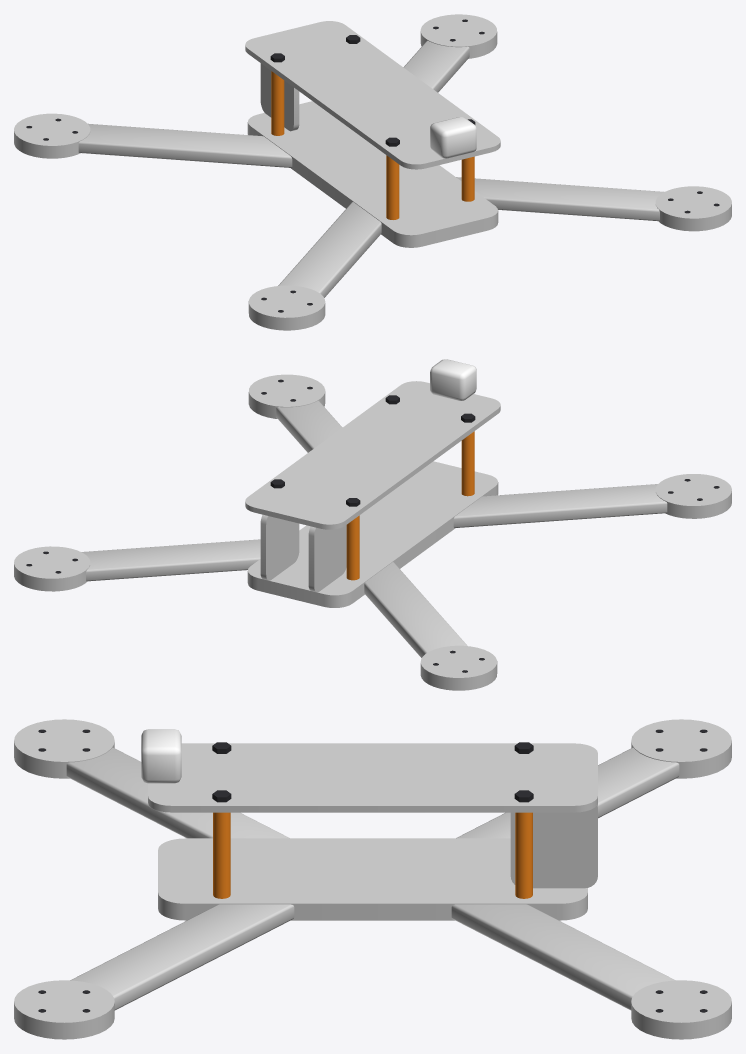
File: frame_adler6.glb
The picture shows the model from 3 angles, top to bottom: view 1: azimuth 30°, elevation 25°; view 2: azimuth 150°, elevation 25°; view 3: azimuth 270°, elevation 25°; orthographic projection. The views are drawn at different scales.
Visible parts, largest first — view 1: frame_adler6_T_carbon, frame_adler6_M_Standoff_adler6, frame_adler6_T_tpu, frame_adler6_M_Bolt; view 2: frame_adler6_T_carbon, frame_adler6_M_Standoff_adler6, frame_adler6_T_tpu, frame_adler6_M_Bolt; view 3: frame_adler6_T_carbon, frame_adler6_M_Standoff_adler6, frame_adler6_T_tpu, frame_adler6_M_Bolt.
Boxes of the visible parts, box(x1,y1,x2,y2) form: frame_adler6_T_carbon: box(14, 14, 731, 330); frame_adler6_M_Standoff_adler6: box(271, 71, 474, 219); frame_adler6_T_tpu: box(430, 117, 476, 158); frame_adler6_M_Bolt: box(26, 19, 719, 312); frame_adler6_T_carbon: box(14, 374, 731, 690); frame_adler6_M_Standoff_adler6: box(346, 431, 474, 580); frame_adler6_T_tpu: box(430, 359, 476, 400); frame_adler6_M_Bolt: box(26, 379, 719, 672); frame_adler6_T_carbon: box(14, 719, 731, 1039); frame_adler6_M_Standoff_adler6: box(213, 812, 532, 898); frame_adler6_T_tpu: box(141, 729, 181, 783); frame_adler6_M_Bolt: box(38, 729, 707, 1012).
Bounding box in the file's own units: 0.2138 × 0.0508 × 0.2138.
